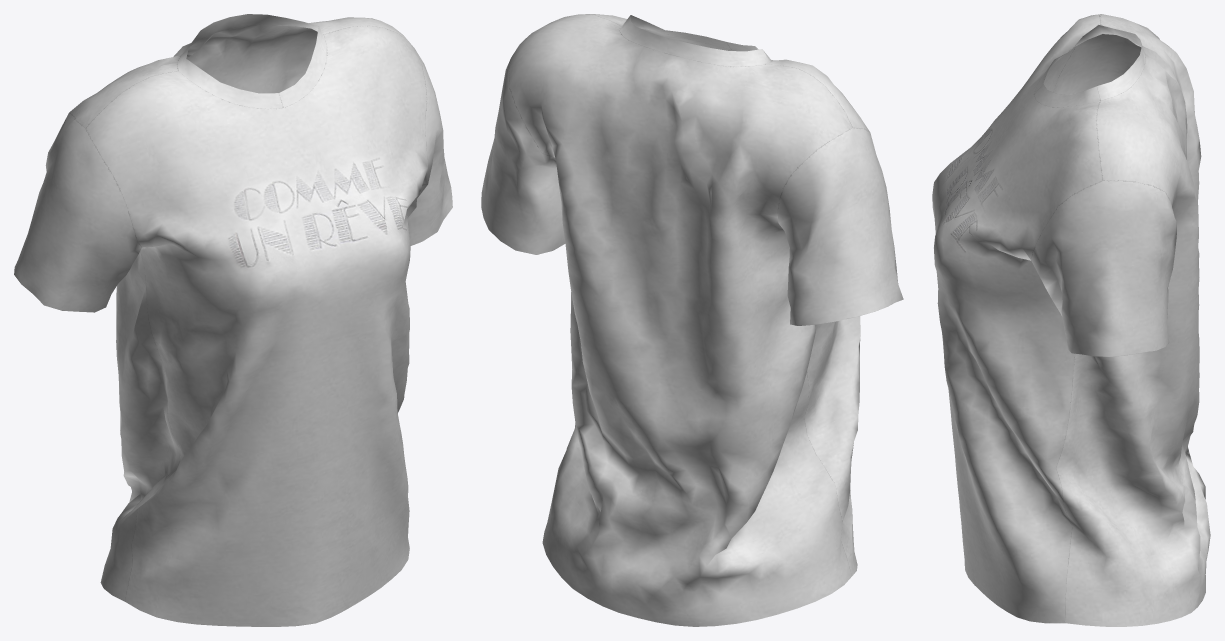
The model's file is 139624 ONLJENKA REG.fbx.
3 views of the same model, side by side, from view 1: azimuth 30°, elevation 25°; view 2: azimuth 150°, elevation 25°; view 3: azimuth 270°, elevation 25° (orthographic). The views are drawn at different scales.
Visible parts, largest first — view 1: 139624 ONLJENKA REG; view 2: 139624 ONLJENKA REG; view 3: 139624 ONLJENKA REG.
Part boxes in pixels (box(x1,y1,x2,y2)): 139624 ONLJENKA REG: box(14, 14, 452, 626); 139624 ONLJENKA REG: box(481, 14, 903, 626); 139624 ONLJENKA REG: box(932, 14, 1210, 626).
Bounding box in the file's own units: 45.58 × 57.52 × 27.05.
Materials: 1 (1 with a texture image).
